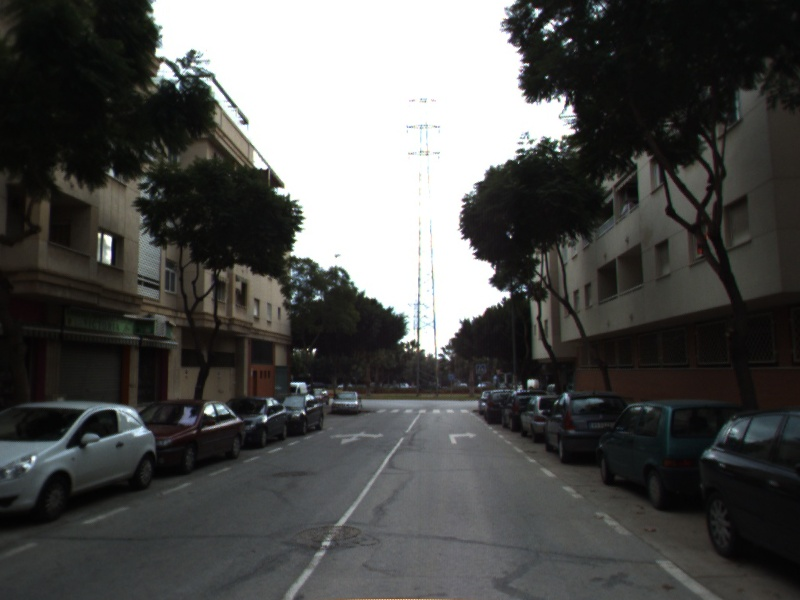RIGHT: (447, 430, 479, 445)
